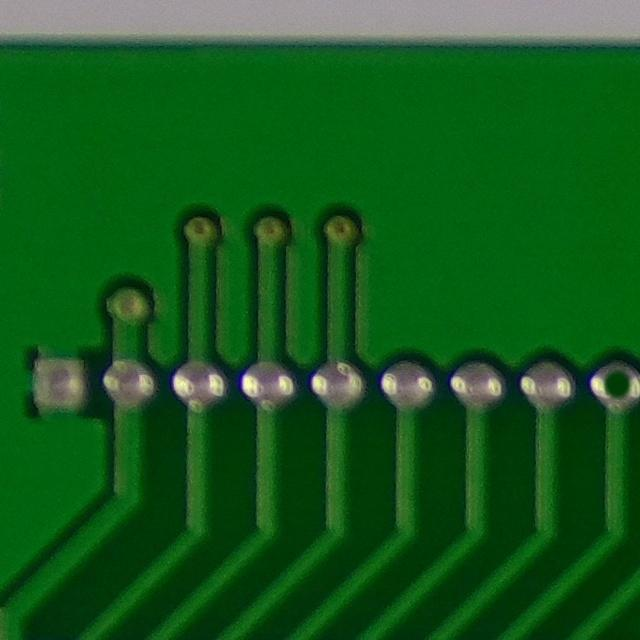missing_hole: (580, 356, 640, 413)
